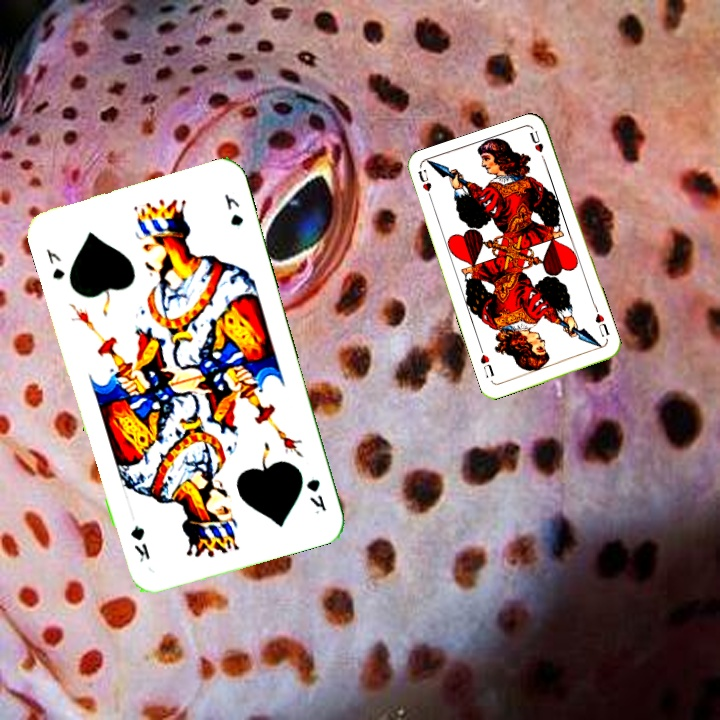GK: (302, 475, 329, 517), (41, 244, 68, 282)
HU: (414, 166, 436, 205), (591, 309, 612, 339)
